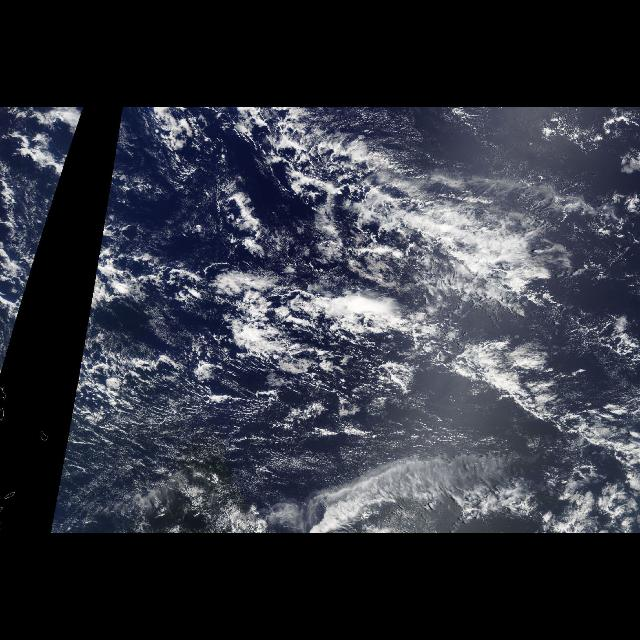Fish: (306, 456, 514, 522)
Gravel: (76, 398, 428, 467), (110, 222, 222, 318)
Sugar: (51, 318, 620, 534), (382, 109, 640, 189)
